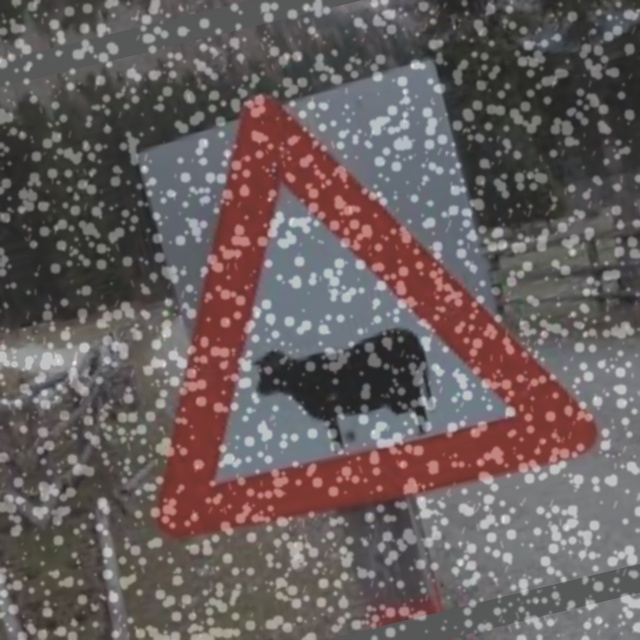Cattle: (102, 62, 584, 549)
